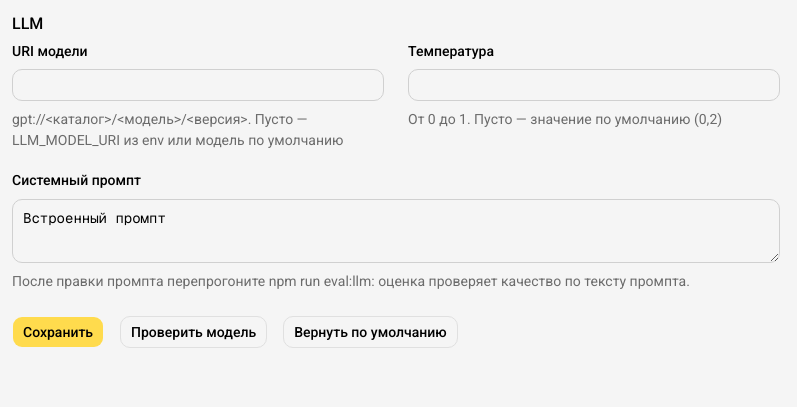
Test: LlmSettingsForm › «Проверить модель» — ошибка показывает код
Click the button "Проверить модель": coordinates (194, 332) x1=120 y1=316 x2=267 y2=348
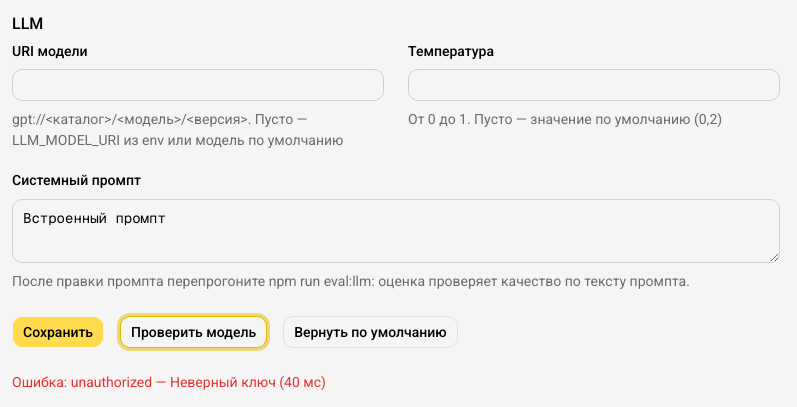
Check: the text "Ошибка: unauthorized — Неверный ключ (40 мс)" is shown, box x1=12 y1=374 x2=326 y2=390
